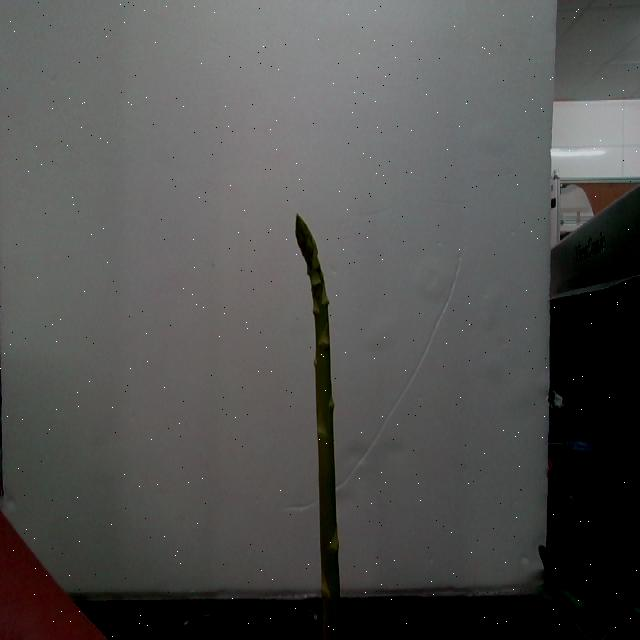aspargus: (295, 217, 342, 640)
